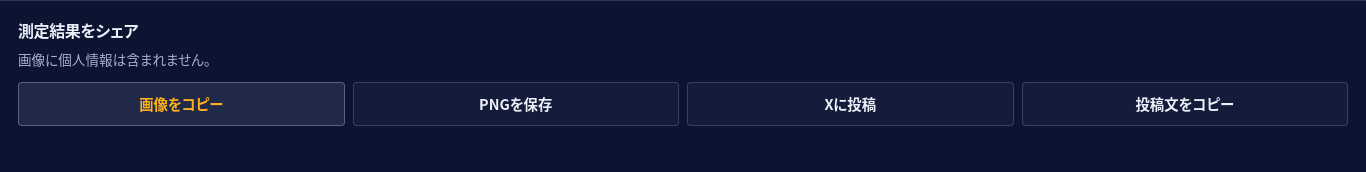
Scenario: ShareResultButton › 画像Clipboard書込みが失敗した場合もPNG保存案内を表示する
The image size is (1366, 172).
Click the button "画像をコピー" at (181, 104), box [18,82,344,126]
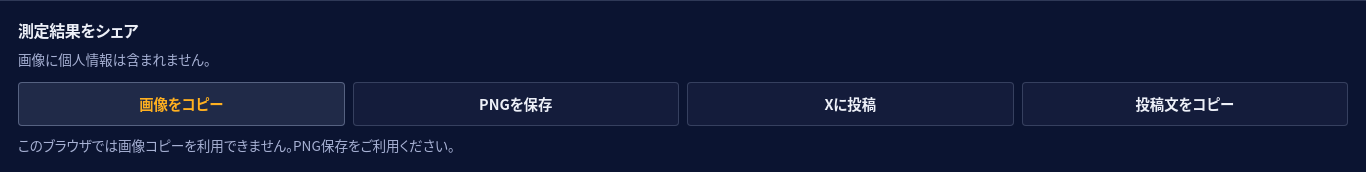
Now the message reads "このブラウザでは画像コピーを利用できません。PNG保存をご利用ください。", box [18,135,454,155]
